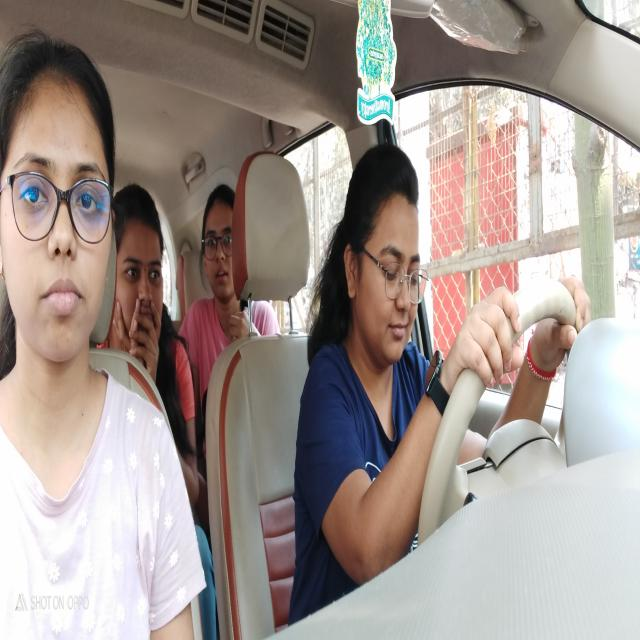drowsy: (347, 154, 422, 372)
person: (2, 43, 114, 360), (116, 184, 168, 359), (202, 174, 240, 294)
